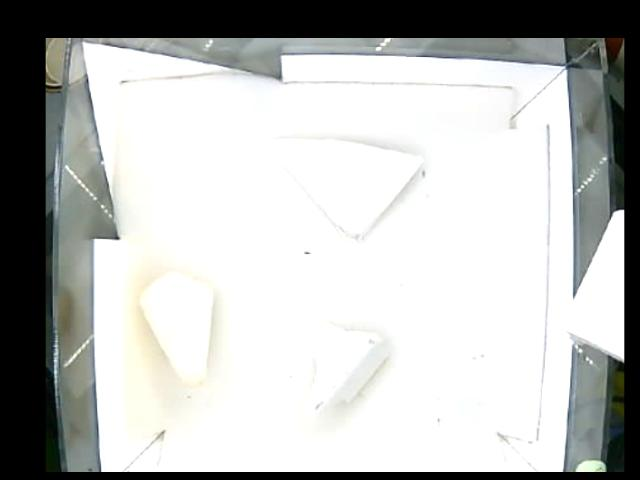China: (267, 140, 429, 238), (297, 320, 388, 417)
Mooli: (142, 268, 212, 385)
